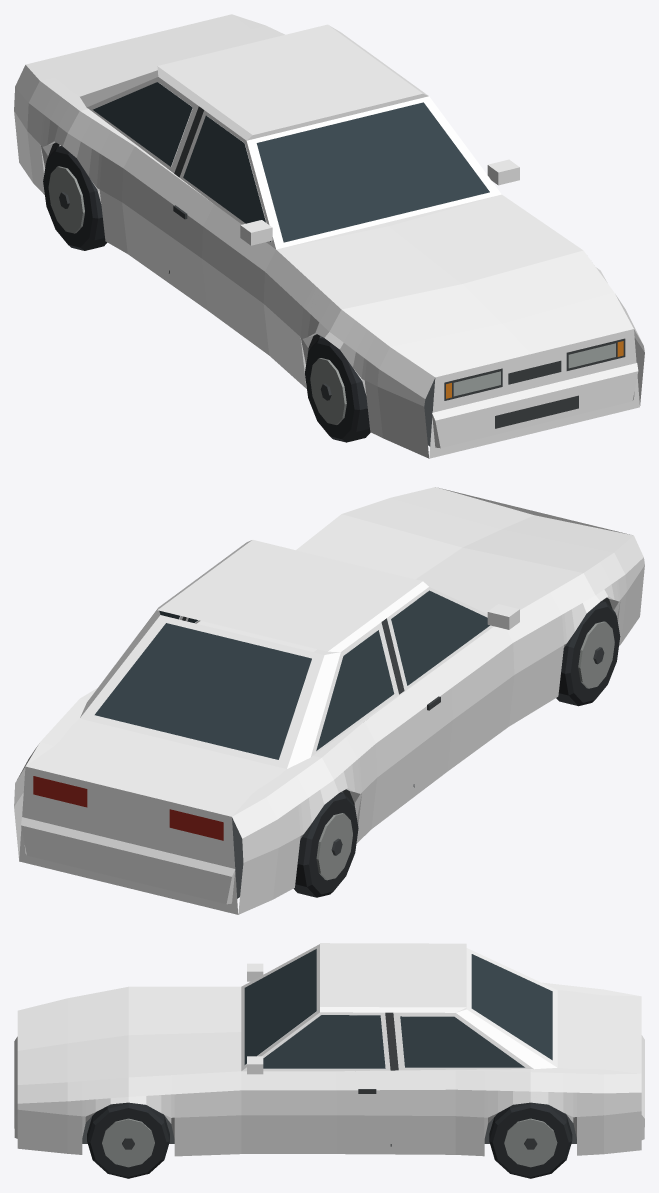
File: hozuki_byakko_gt_96.glb
3 renders of one model, top to bottom at view 1: azimuth 30°, elevation 25°; view 2: azimuth 150°, elevation 25°; view 3: azimuth 270°, elevation 25°, orthographic. The views are drawn at different scales.
Parts seen in each view (by area): view 1: hozuki_byakko_gt_96; view 2: hozuki_byakko_gt_96; view 3: hozuki_byakko_gt_96.
Boxes of the visible parts, <box> form: hozuki_byakko_gt_96: <box>14,14,644,458</box>; hozuki_byakko_gt_96: <box>14,487,644,914</box>; hozuki_byakko_gt_96: <box>14,943,644,1178</box>.
Size of the model in its own units: 1.79 by 1.25 by 4.61.
Materials: 8 (1 with a texture image).
